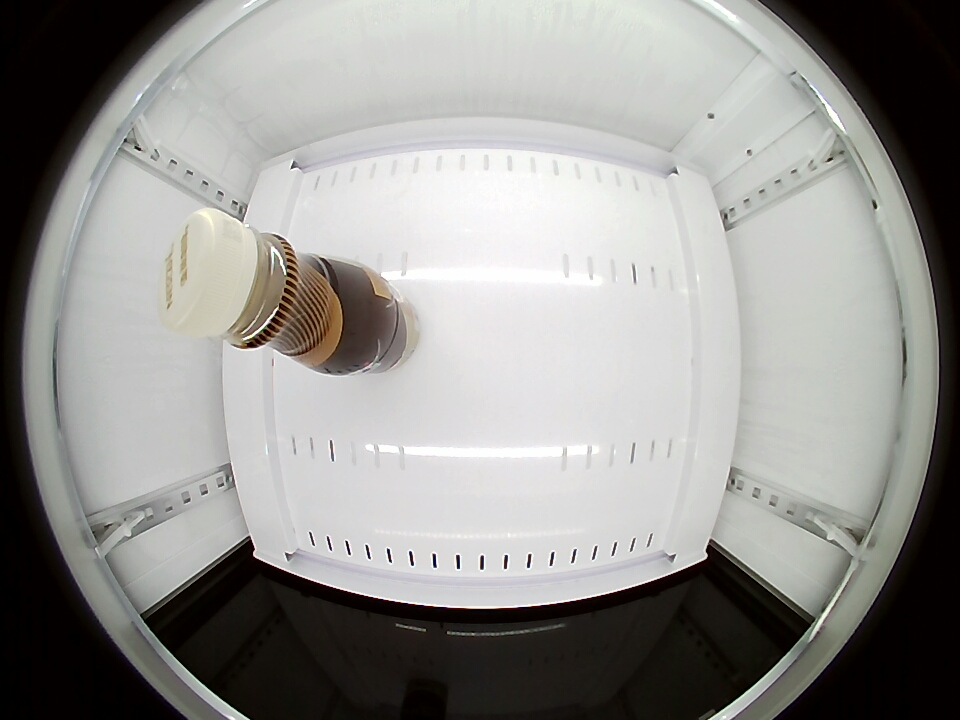kafei: (160, 209, 354, 371)
